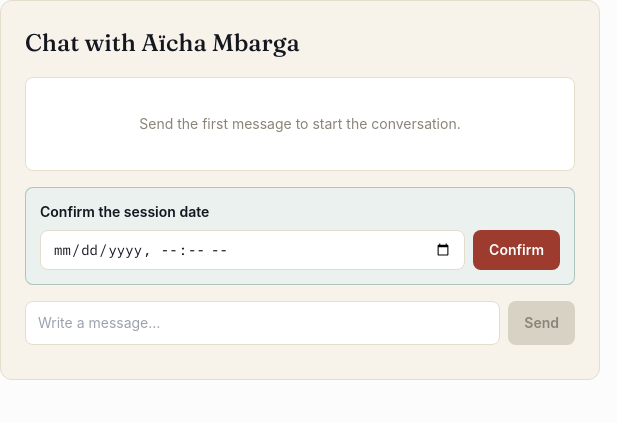
Test: Chat › blocks sending and shows a message when offline mode is enabled and the browser is offline
Step 1. Type "Salut" into the field with placeholder "Write a message…" → (263, 323), box left=25, top=301, right=500, bottom=345
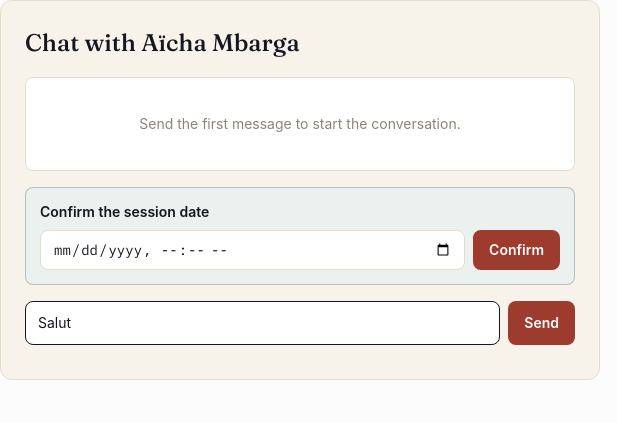
Step 2. Click the button "Send" → (542, 323), box left=508, top=301, right=575, bottom=345
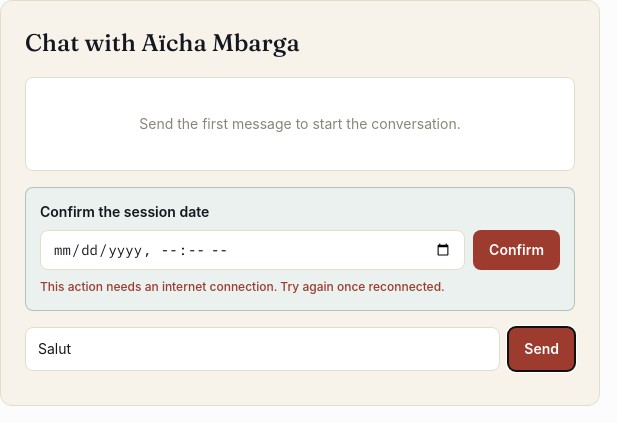
Expected: the text "needs an internet connection" is shown, left=40, top=279, right=445, bottom=294
